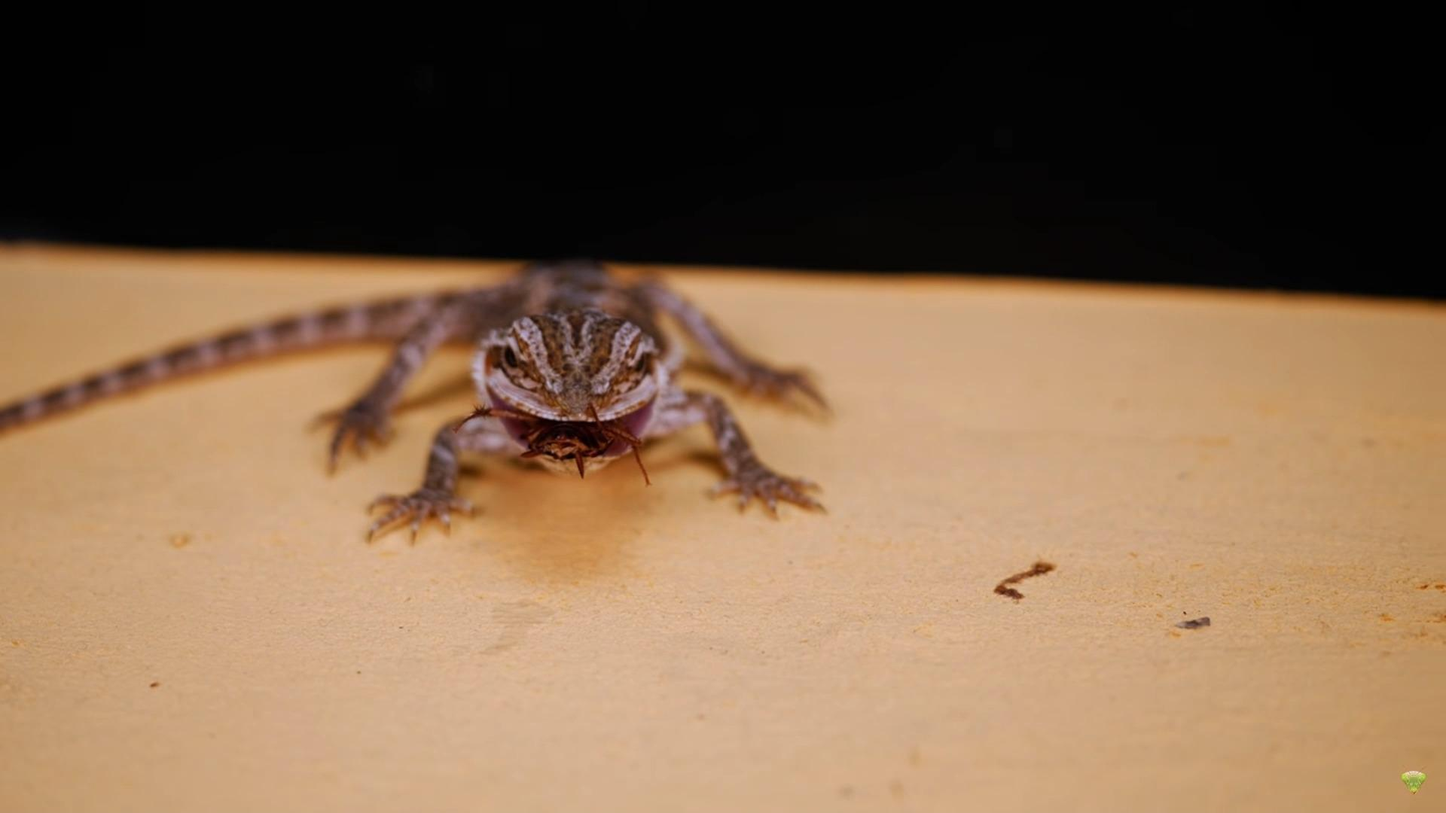cockroach: (497, 404, 655, 486)
lizard: (331, 253, 825, 548)
